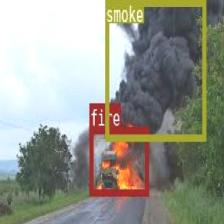fire: (89, 126, 148, 195)
smoke: (105, 0, 204, 139)
